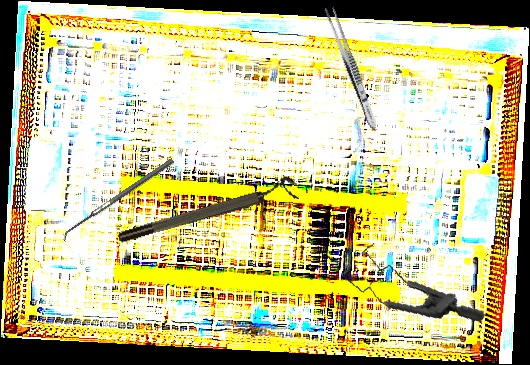Dressing Forceps: (321, 4, 382, 133)
Fixation Ring: (114, 173, 301, 247)
Spatula Surgical: (59, 158, 178, 243)
Speculum: (337, 228, 486, 342)
